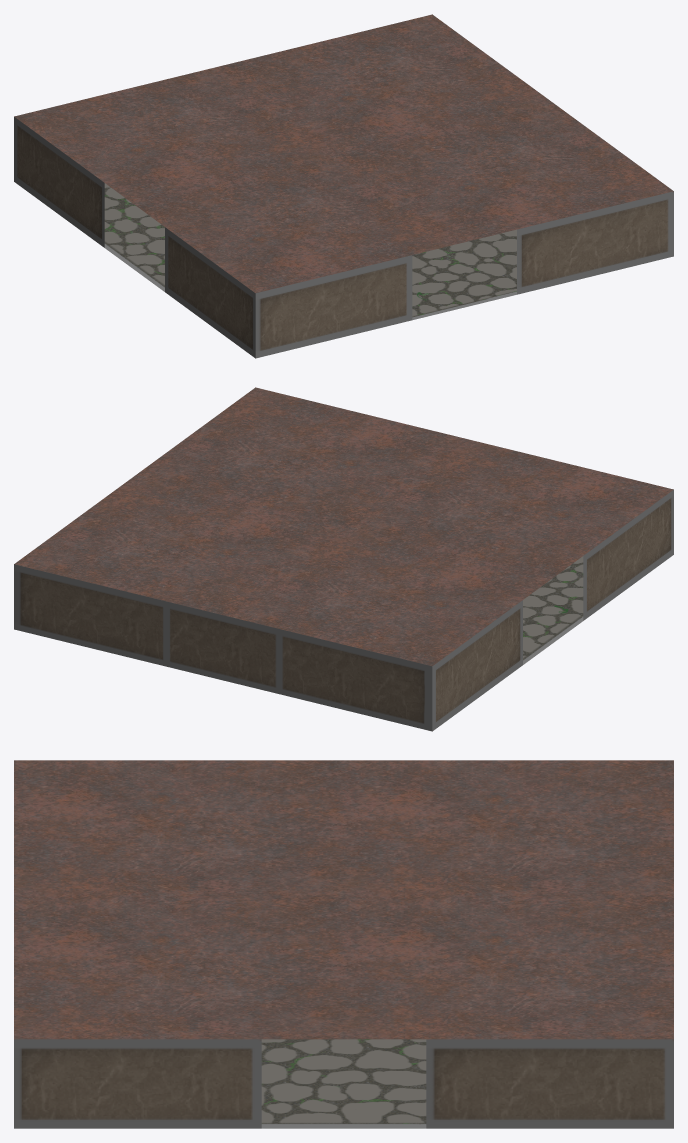
The model's file is LargeSquare ThreeDoor.fbx.
3 renders of one model, top to bottom at view 1: azimuth 30°, elevation 25°; view 2: azimuth 150°, elevation 25°; view 3: azimuth 270°, elevation 25°, orthographic. The views are drawn at different scales.
Visible parts, largest first — view 1: pLargeSquare_ThreeDoor; view 2: pLargeSquare_ThreeDoor; view 3: pLargeSquare_ThreeDoor.
Boxes of the visible parts, left/top/right/bottom form: pLargeSquare_ThreeDoor: left=14, top=14, right=673, bottom=358; pLargeSquare_ThreeDoor: left=14, top=387, right=673, bottom=731; pLargeSquare_ThreeDoor: left=14, top=760, right=673, bottom=1128.
Size of the model in its own units: 8 by 1.19 by 8.
